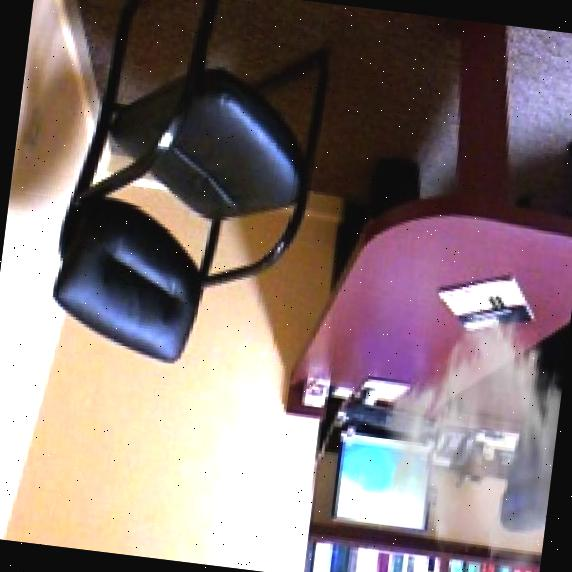smoke: (362, 284, 572, 572)
